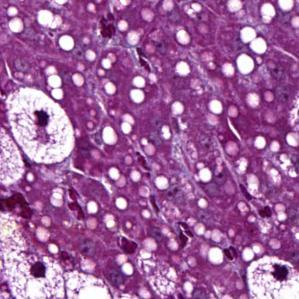ballooning: (5, 86, 78, 168), (4, 210, 66, 296), (245, 254, 296, 296)
